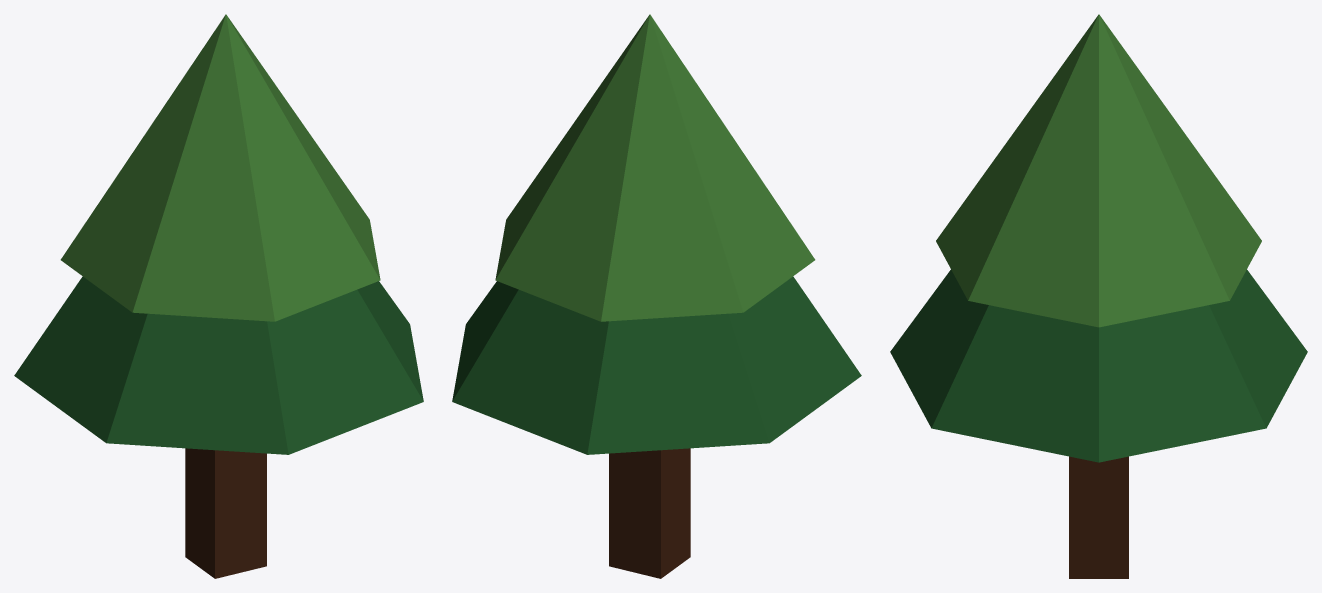
File: tree.obj
3 renders of one model, left to right at view 1: azimuth 30°, elevation 25°; view 2: azimuth 150°, elevation 25°; view 3: azimuth 270°, elevation 25°, orthographic.
Parts seen in each view (by area): view 1: StoryWorld_Tree; view 2: StoryWorld_Tree; view 3: StoryWorld_Tree.
Part boxes in pixels (bbox=[...]): StoryWorld_Tree: bbox=[14, 14, 423, 578]; StoryWorld_Tree: bbox=[452, 14, 861, 578]; StoryWorld_Tree: bbox=[890, 14, 1307, 578].
Size of the model in its own units: 6.08 by 9.1 by 6.24.
